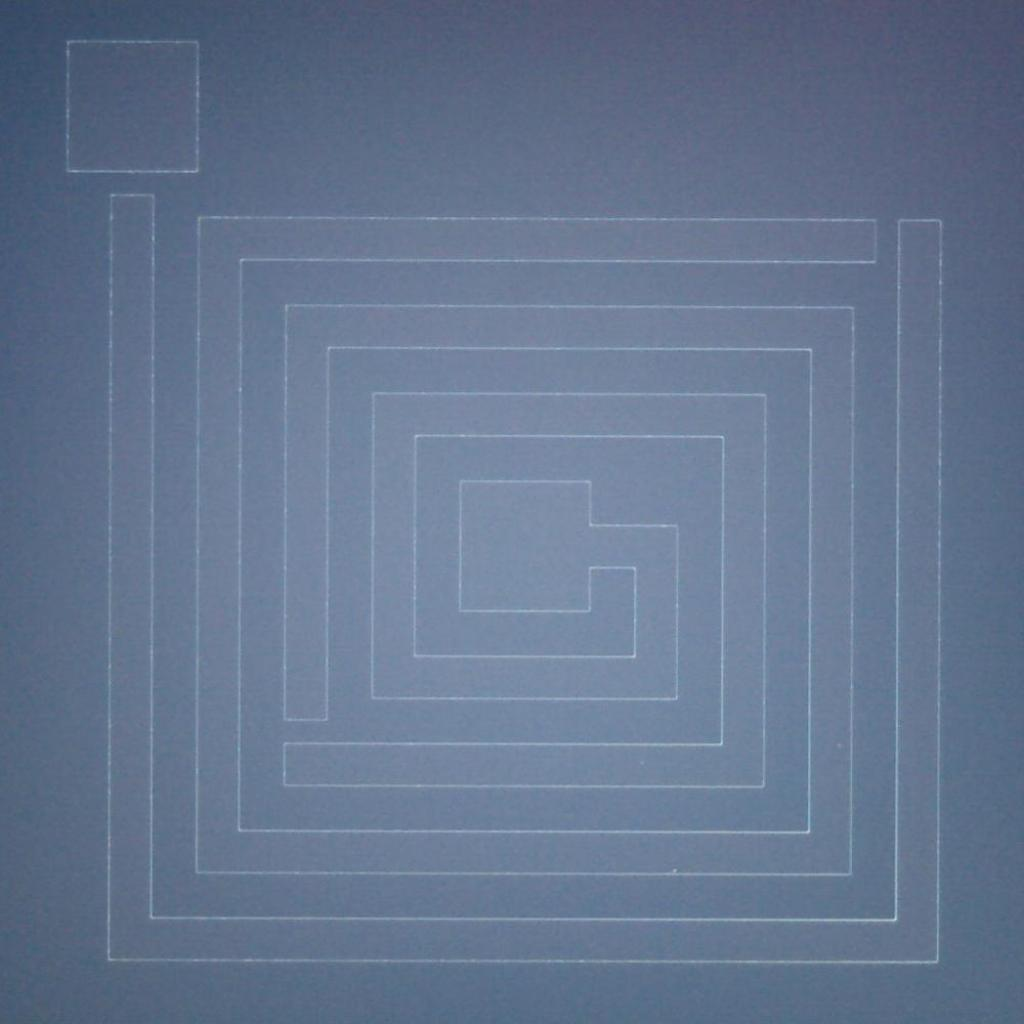dot: (836, 743, 842, 749), (672, 868, 678, 872)
